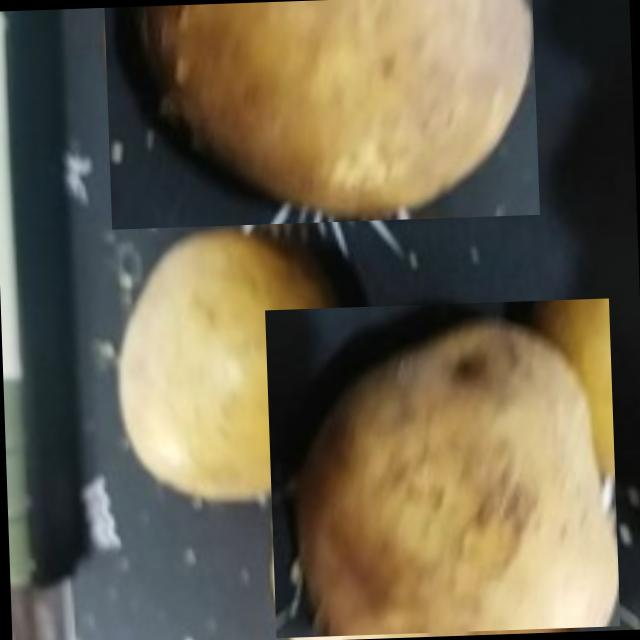Damaged potato: (264, 298, 618, 638), (103, 0, 538, 229)
Potato: (106, 223, 348, 512)
